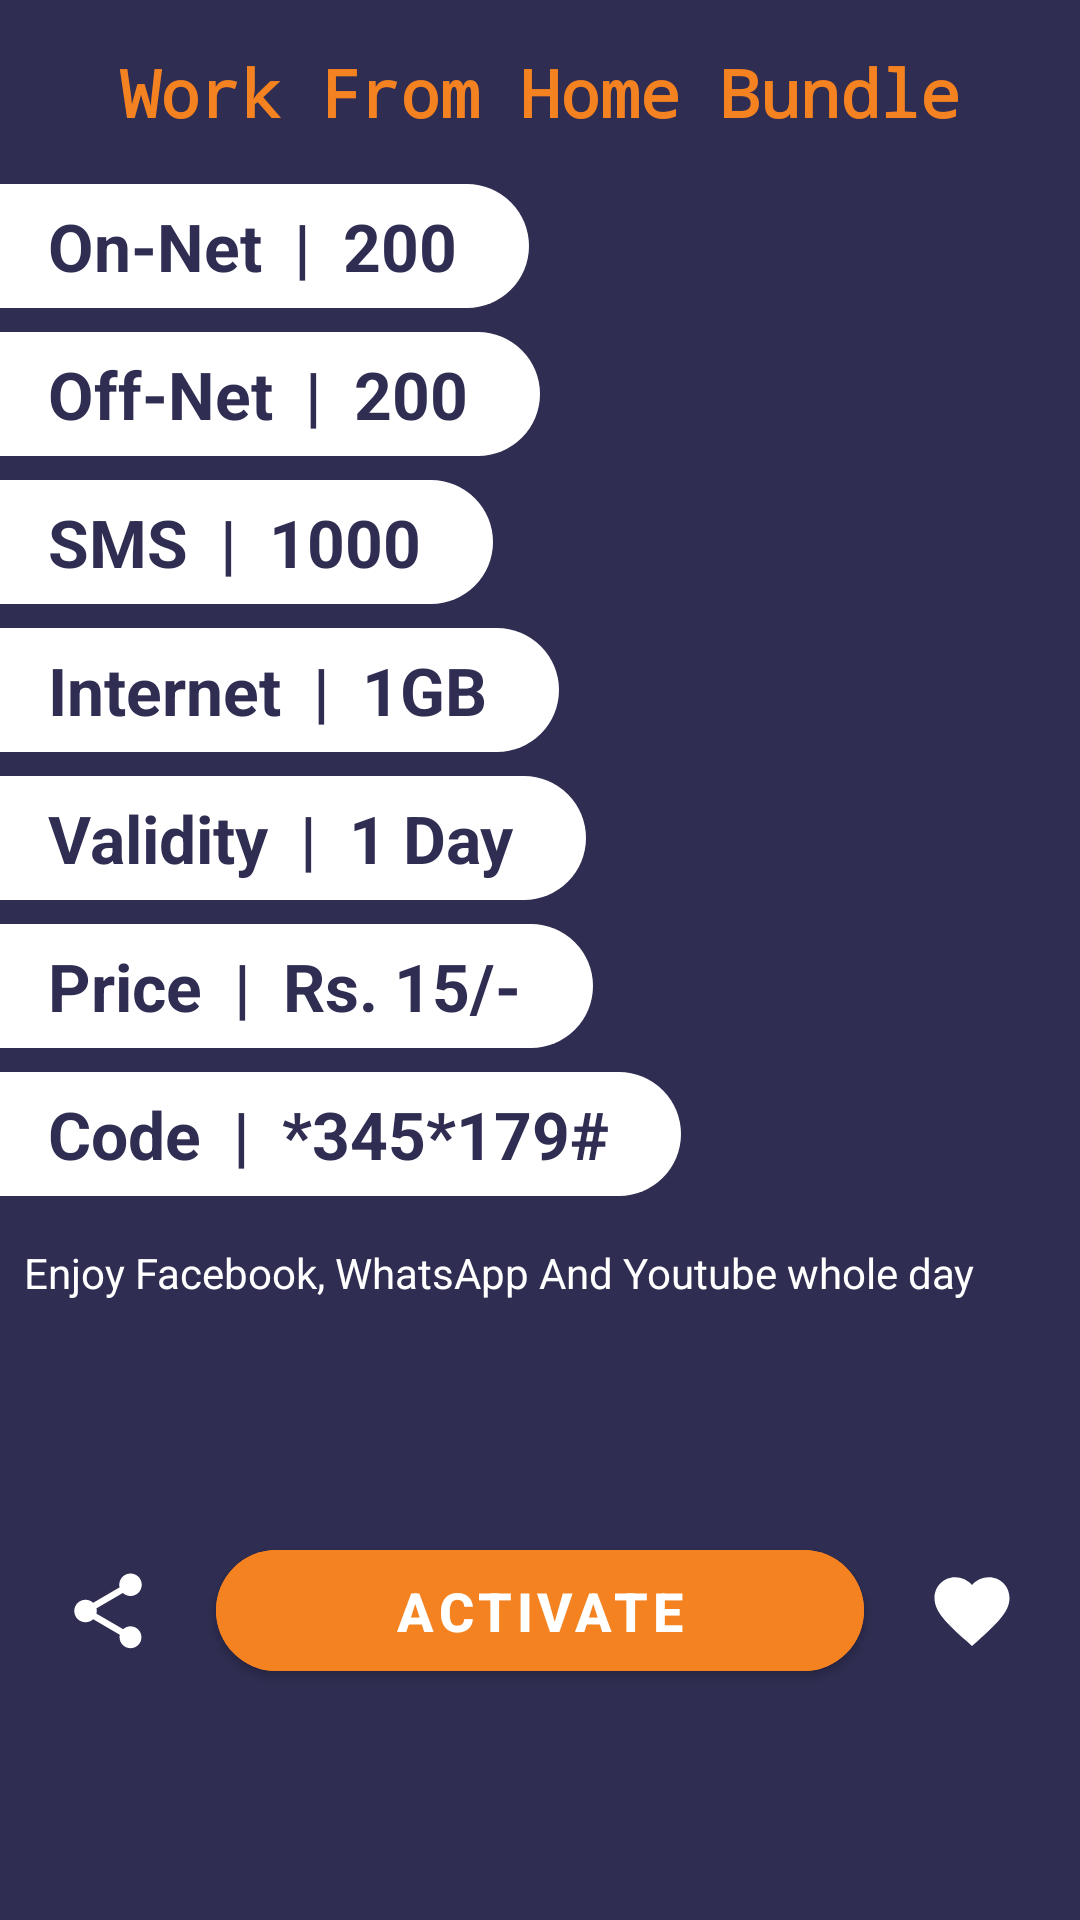

Icon bounding boxes for this 1080*1920 phone screenshot, format [x1=x1, y1=y1, x2=x2, y2=y2]:
favorite: [x1=934, y1=1577, x2=1010, y2=1646]
share: [x1=74, y1=1573, x2=142, y2=1649]
